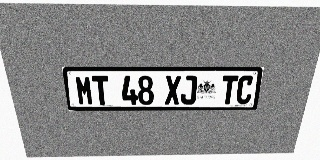4: (121, 76, 138, 105)
8: (138, 76, 154, 105)
C: (235, 76, 254, 104)
J: (180, 76, 197, 105)
M: (75, 76, 94, 105)
T: (220, 76, 239, 104), (92, 76, 110, 105)
X: (165, 76, 181, 105)
